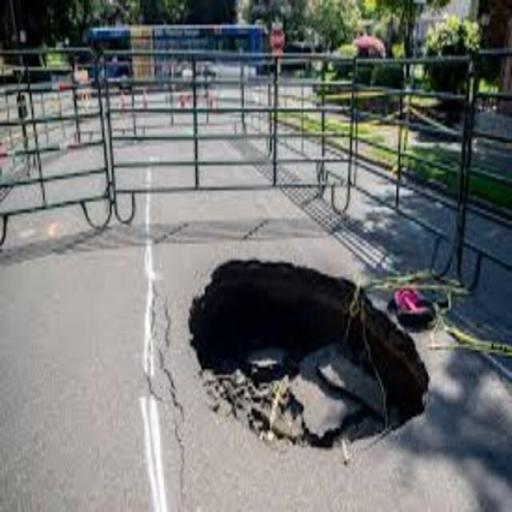Concentric_Crack: (189, 261, 429, 447)
